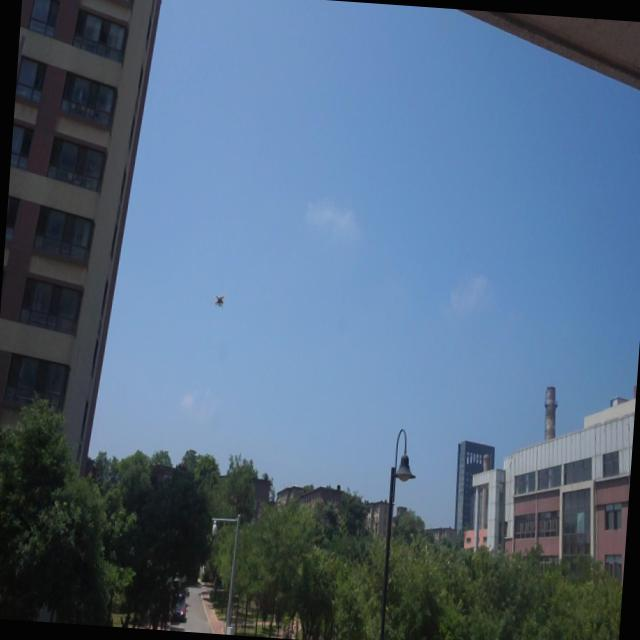drone: (210, 290, 228, 310)
